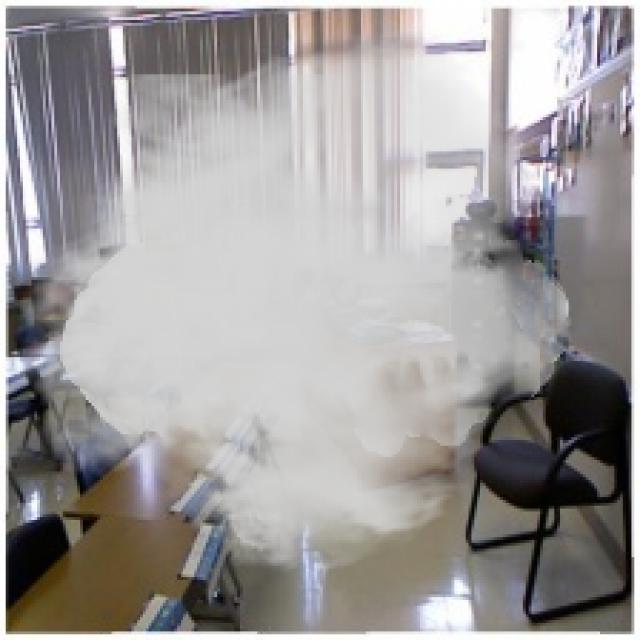smoke: (3, 26, 571, 577)
